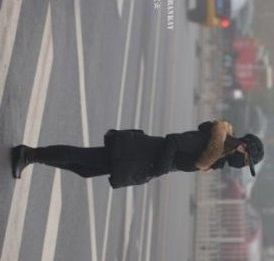person: (8, 120, 266, 190)
